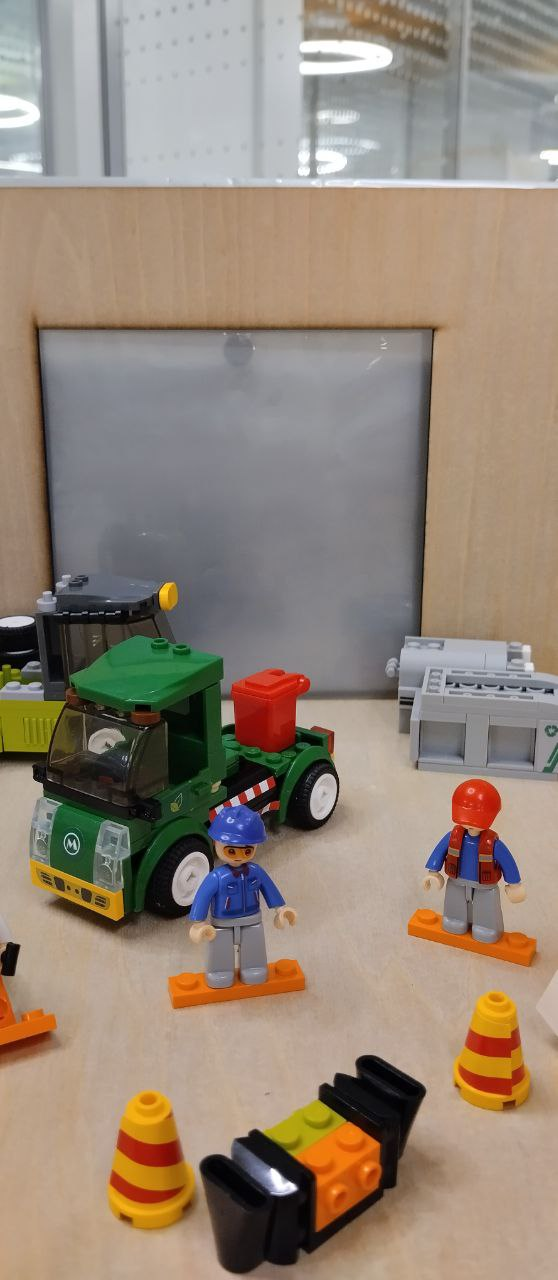Cone: (105, 1096, 197, 1227), (451, 990, 532, 1110)
Crane: (0, 578, 195, 754)
Object Black: (200, 1054, 429, 1280)
Object Red: (229, 667, 313, 750)
Truck: (26, 637, 342, 924)
